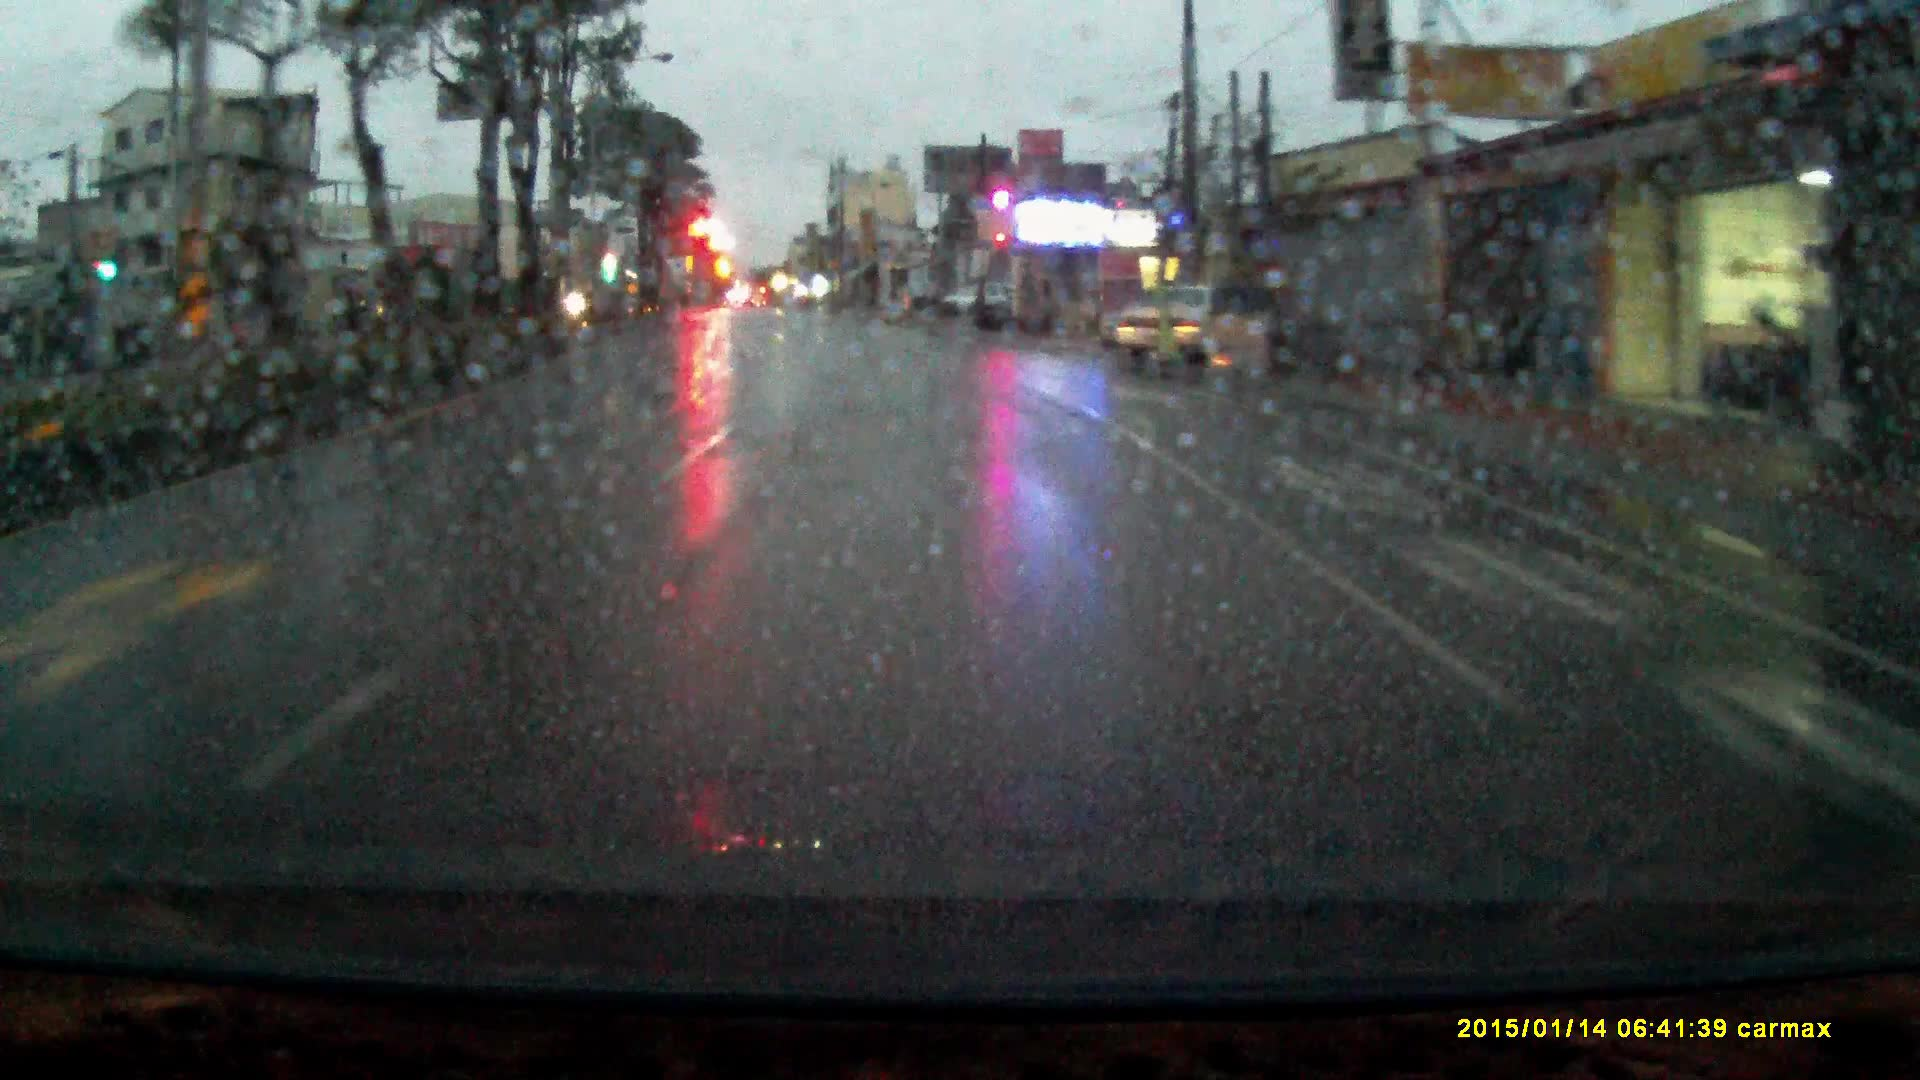vehicle: (1124, 291, 1270, 382), (942, 284, 1021, 320)
